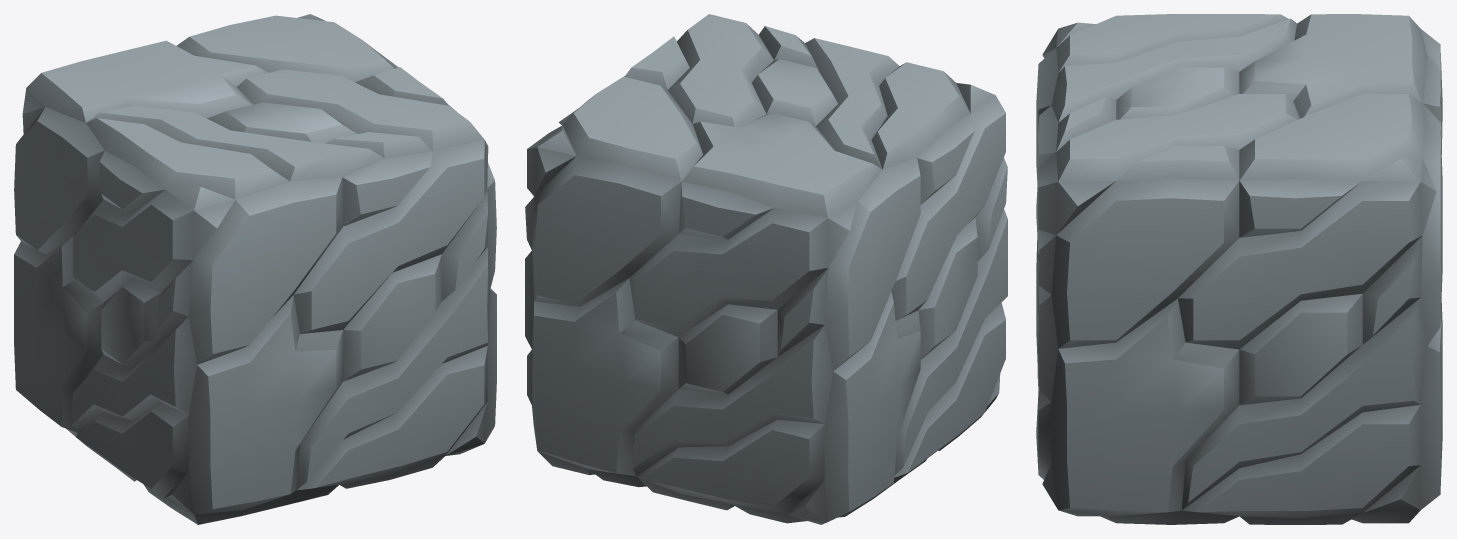
Rendered from stone.glb.
3 renders of one model, left to right at view 1: azimuth 30°, elevation 25°; view 2: azimuth 150°, elevation 25°; view 3: azimuth 270°, elevation 25°, orthographic. The views are drawn at different scales.
Visible parts, largest first — view 1: stone; view 2: stone; view 3: stone.
Part boxes in pixels (x1,y1,x2,y2): stone: (14, 14, 496, 524); stone: (525, 14, 1007, 524); stone: (1036, 14, 1442, 524).
Size of the model in its own units: 2.02 by 2.02 by 2.02.
Materials: 1 (1 with a texture image).
